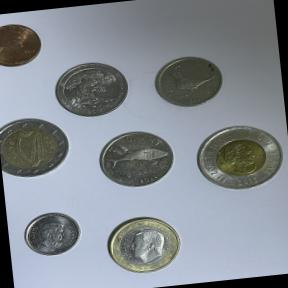coin: (185, 113, 288, 201), (99, 208, 190, 280), (94, 122, 182, 193), (48, 55, 135, 122), (0, 110, 75, 182), (18, 206, 86, 261), (0, 15, 50, 73)
